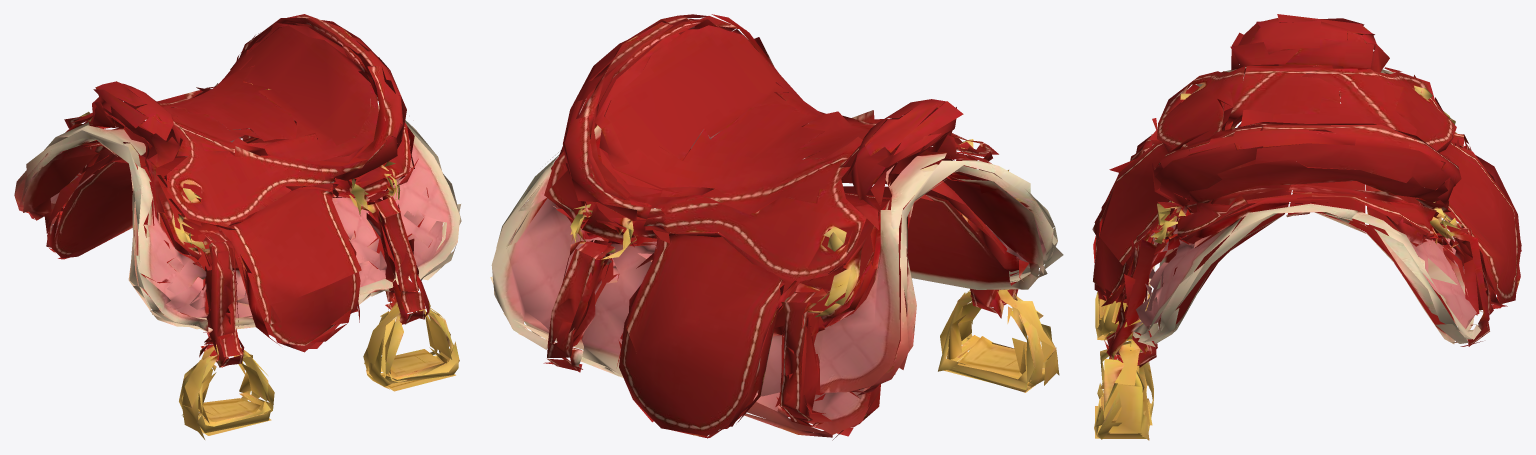
3 renders of one model, left to right at view 1: azimuth 30°, elevation 25°; view 2: azimuth 150°, elevation 25°; view 3: azimuth 270°, elevation 25°, orthographic. The views are drawn at different scales.
Visible parts, largest first — view 1: saddle-red; view 2: saddle-red; view 3: saddle-red.
Part boxes in pixels (x1,y1,x2,y2): saddle-red: (14,14,461,439); saddle-red: (490,14,1063,440); saddle-red: (1092,14,1521,440).
Bounding box in the file's own units: 0.2846 × 0.2308 × 0.2913.
Materials: 1 (1 with a texture image).
